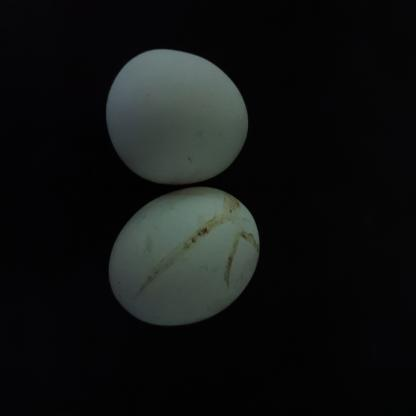egg: (107, 186, 261, 330), (104, 46, 251, 186)
